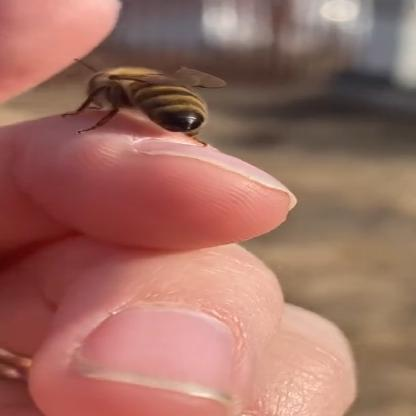bee: (31, 35, 264, 142)
